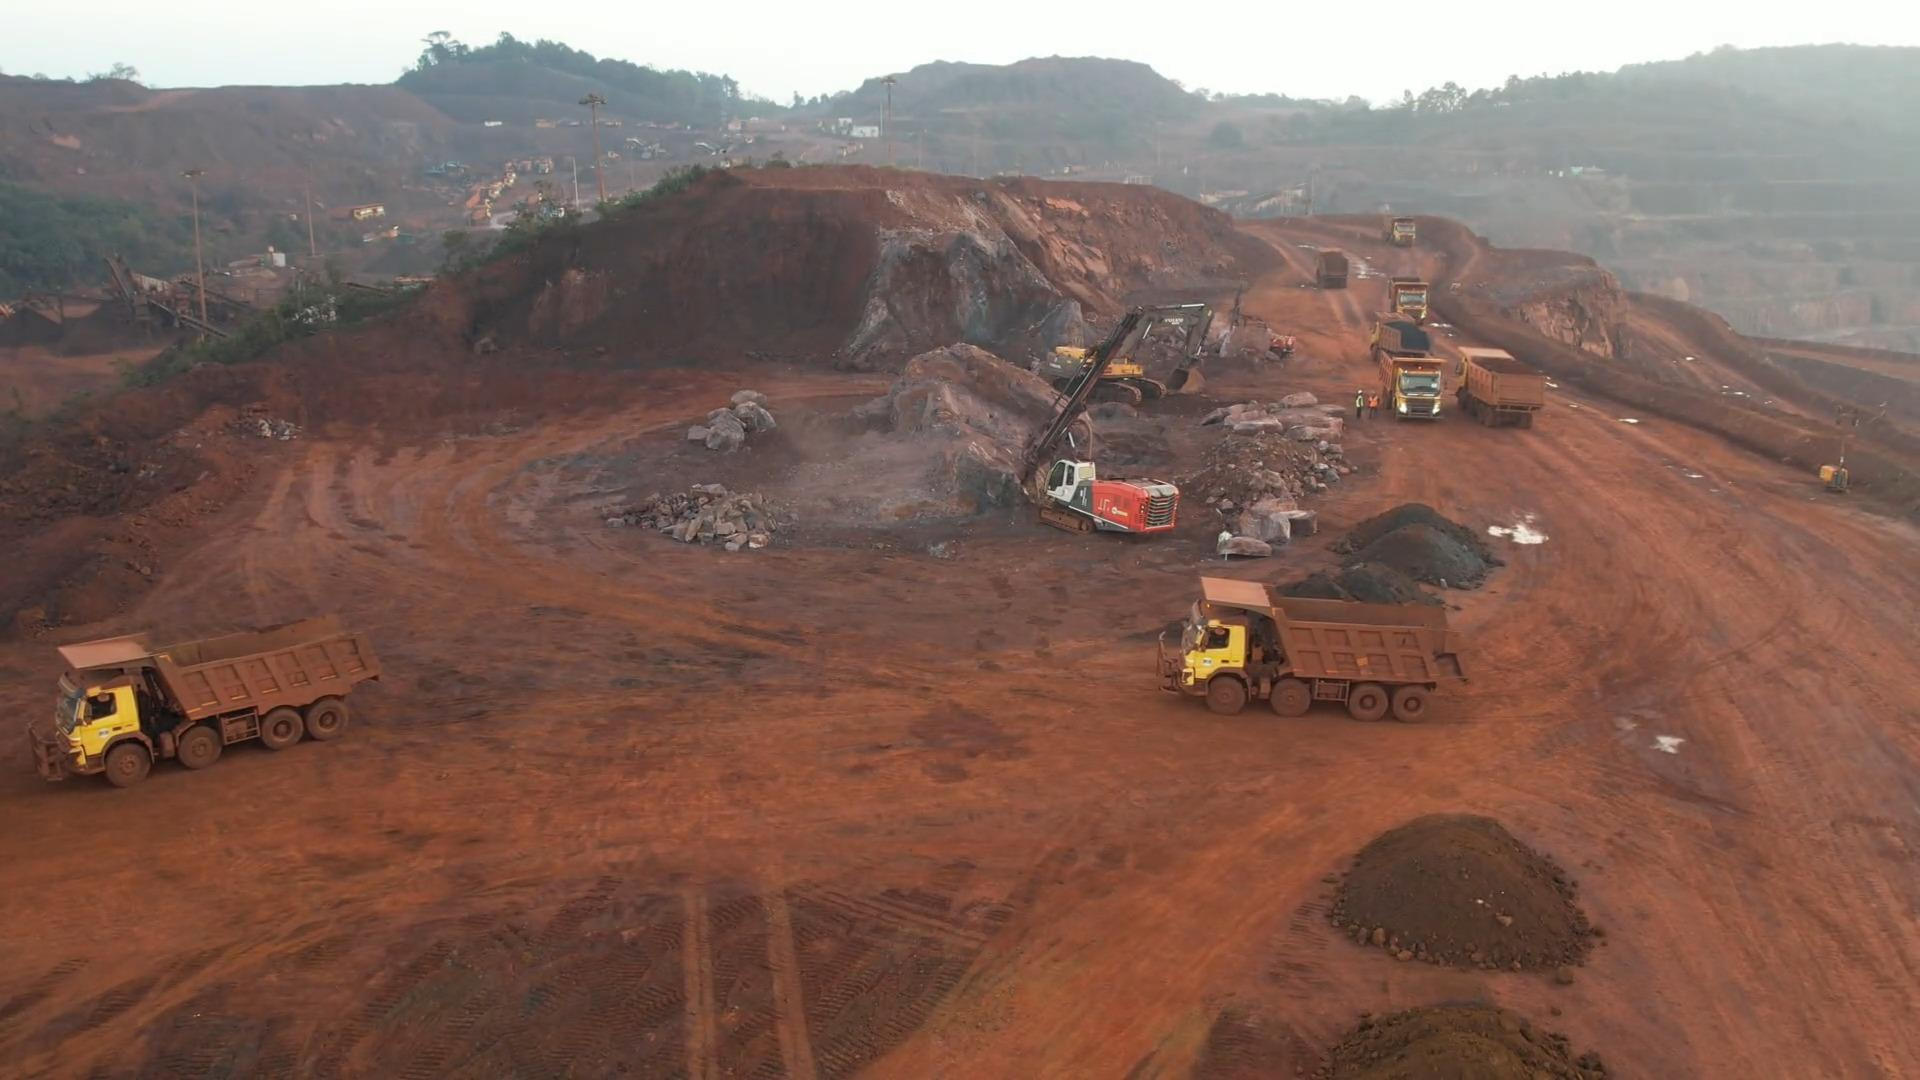excavator: (1051, 299, 1211, 398)
